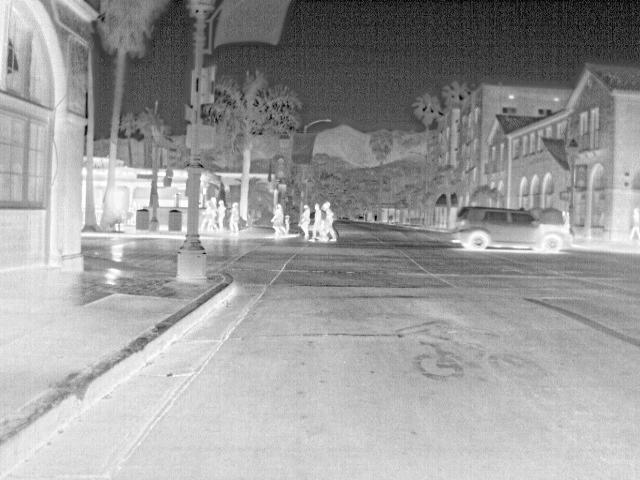car: (449, 205, 573, 253)
person: (321, 202, 341, 244), (308, 201, 323, 241), (270, 204, 288, 236), (296, 204, 311, 241), (198, 200, 214, 234), (227, 200, 241, 234), (214, 198, 228, 229), (628, 204, 640, 239)
